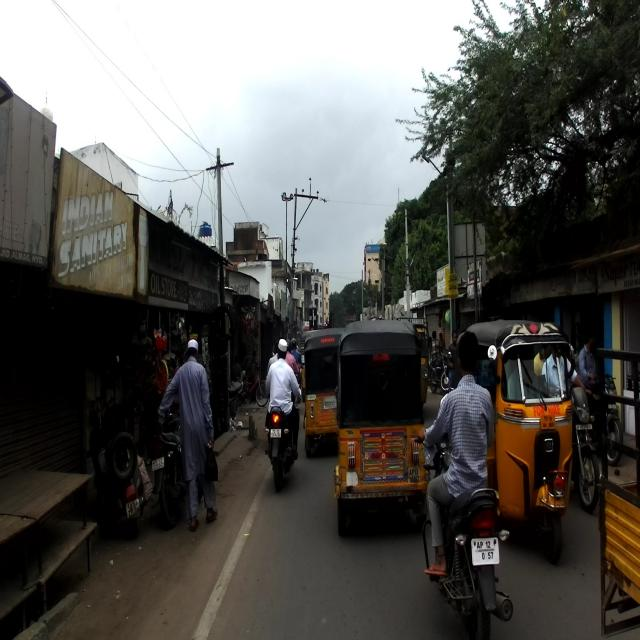autorickshaw: (454, 318, 576, 564), (332, 316, 429, 540)
motorcycle_Honda: (411, 432, 513, 639), (154, 409, 205, 529), (263, 390, 301, 492)
motorcycle_bajaj: (567, 386, 600, 514)
scooter: (86, 391, 152, 542)
